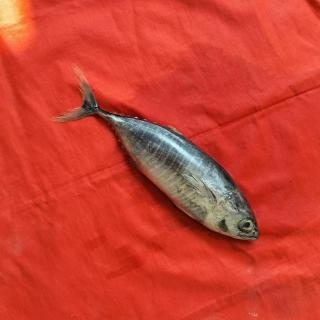Ikan: (56, 62, 270, 258)
